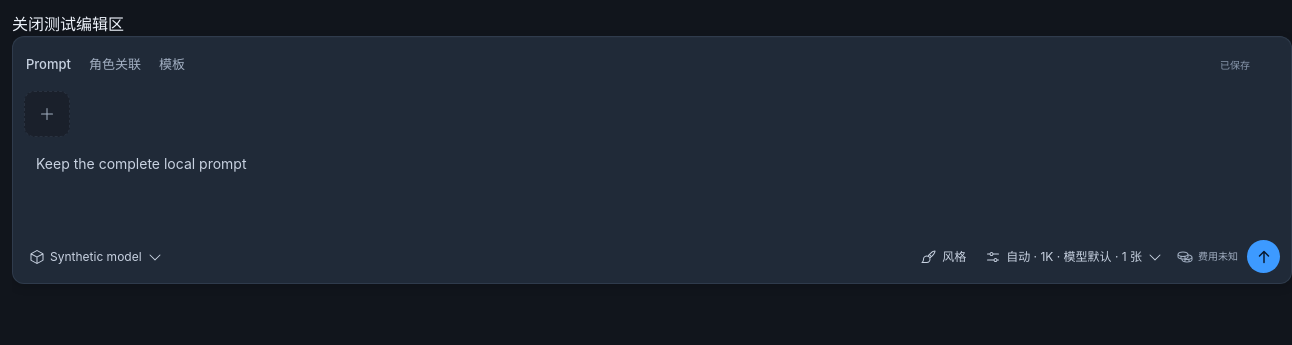
Scenario: media draft persistence boundaries › keeps the original CAS after a committed PUT loses its response, until an explicit refresh
Clear the field named "图片提示词". click: (141, 164)
box: [36,155,246,172]
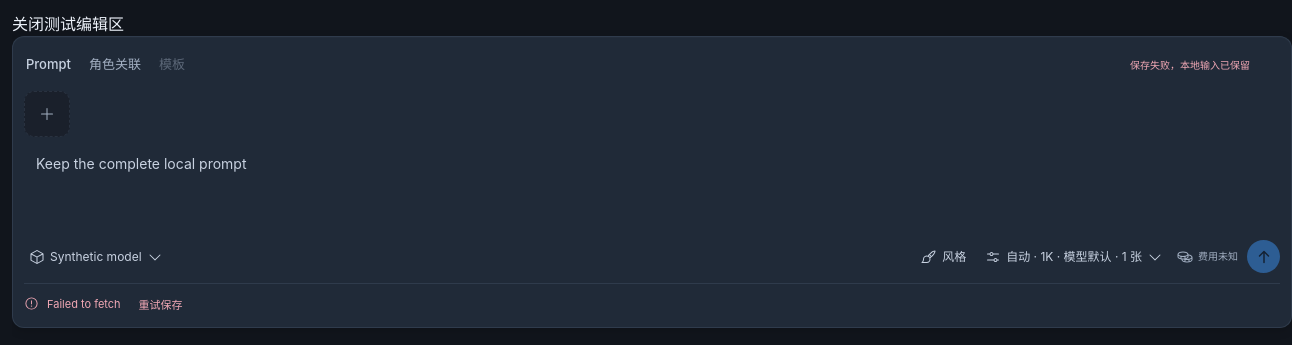
expect the text "保存失败，本地输入已保留" is shown: met, box [1130,58,1250,70]
Click the button "重试保存". click: (161, 305)
box: [131,293,191,317]
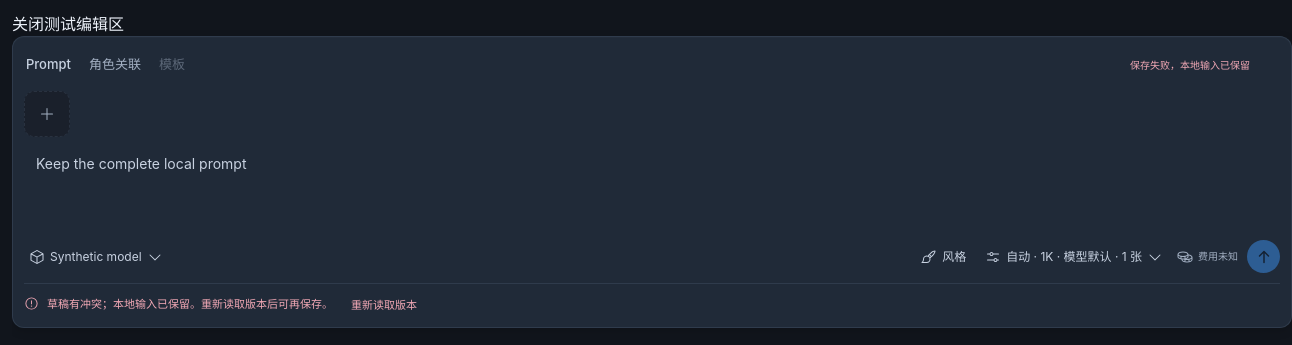
expect the button "重新读取版本" is shown: met
Click the button "重新读取版本". click: (384, 305)
box: [343,293,425,317]
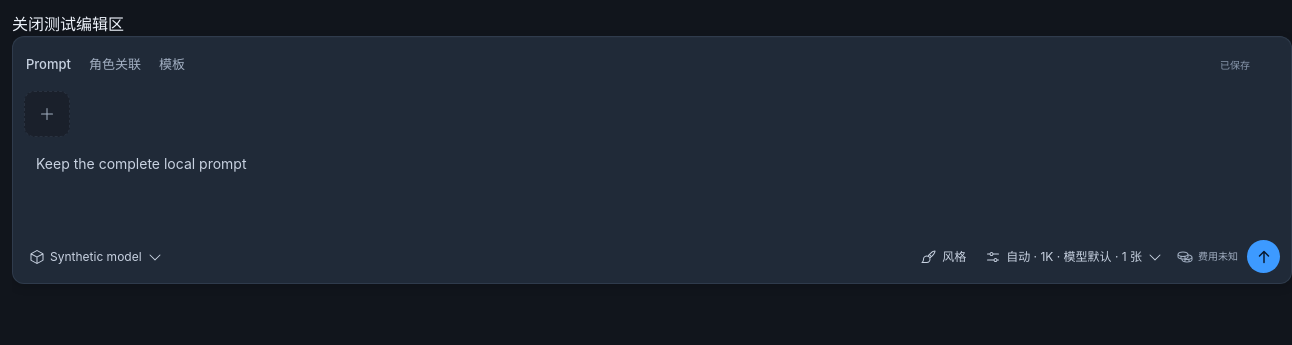
expect the text "已保存" is shown: met, box [1220,58,1250,70]
